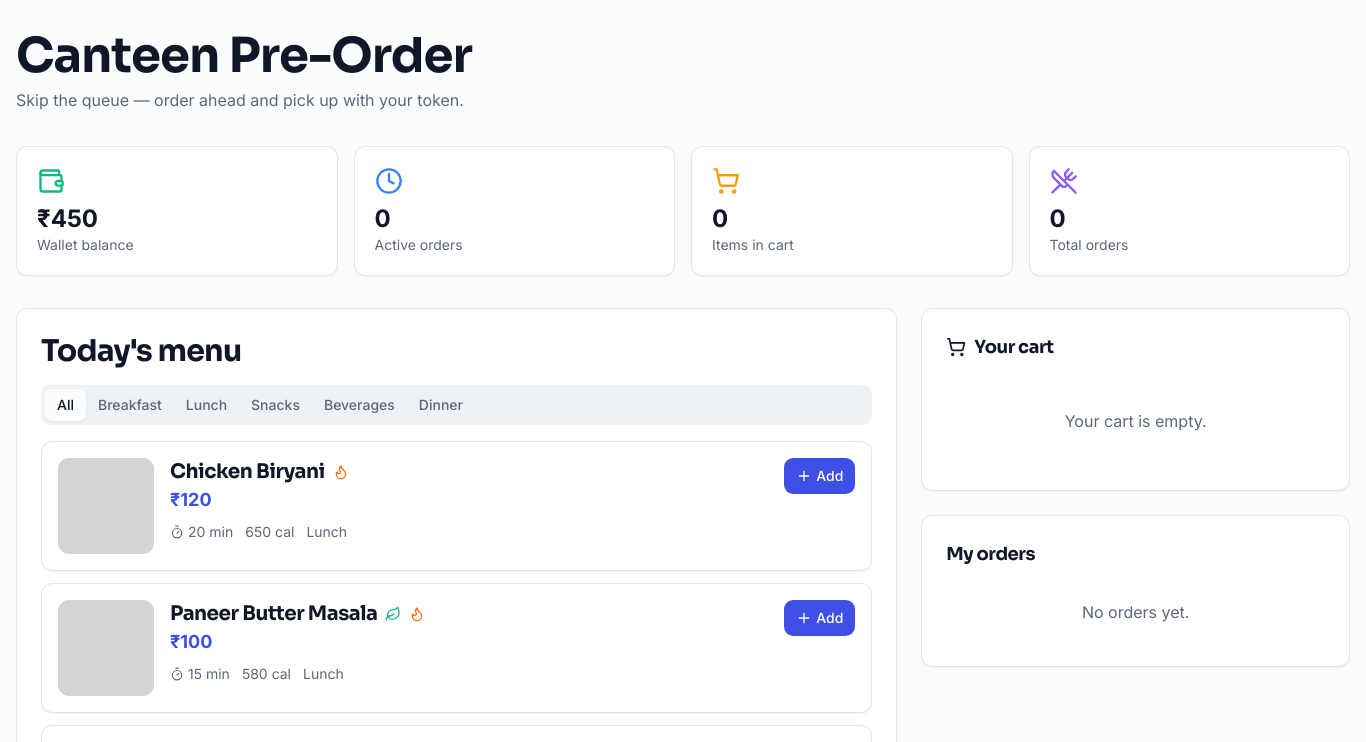
Canteen page › filters the menu by category
This screenshot has width=1366, height=742.
Click the tab "Beverages". click: click(359, 405)
box: [312,389,407,421]
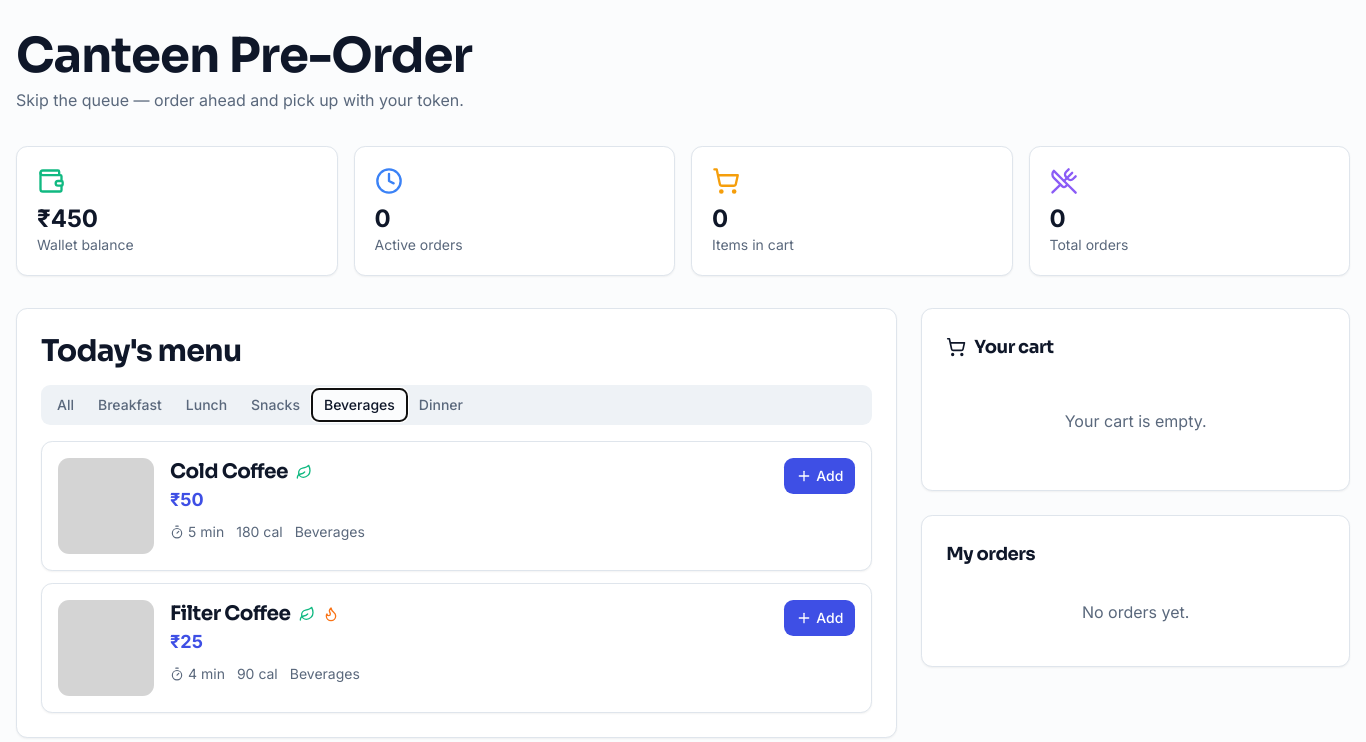
Expected: the heading "Cold Coffee" is shown, [170,458,312,486]
Now the heading "Chicken Biryani" is gone
